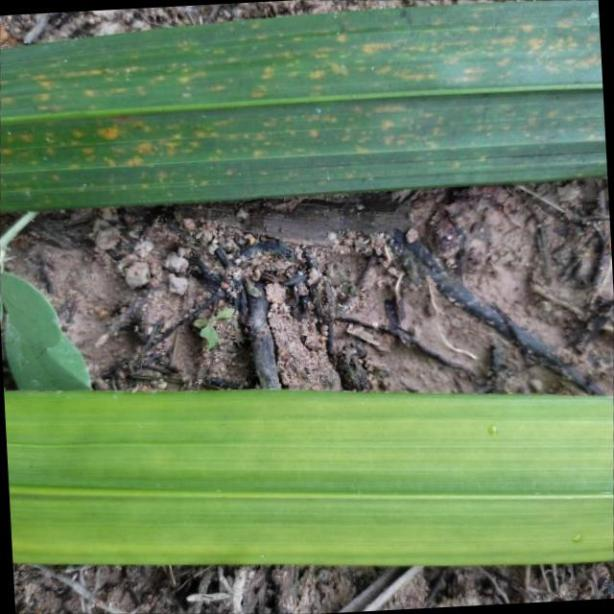nitrogen: (3, 385, 614, 567)
